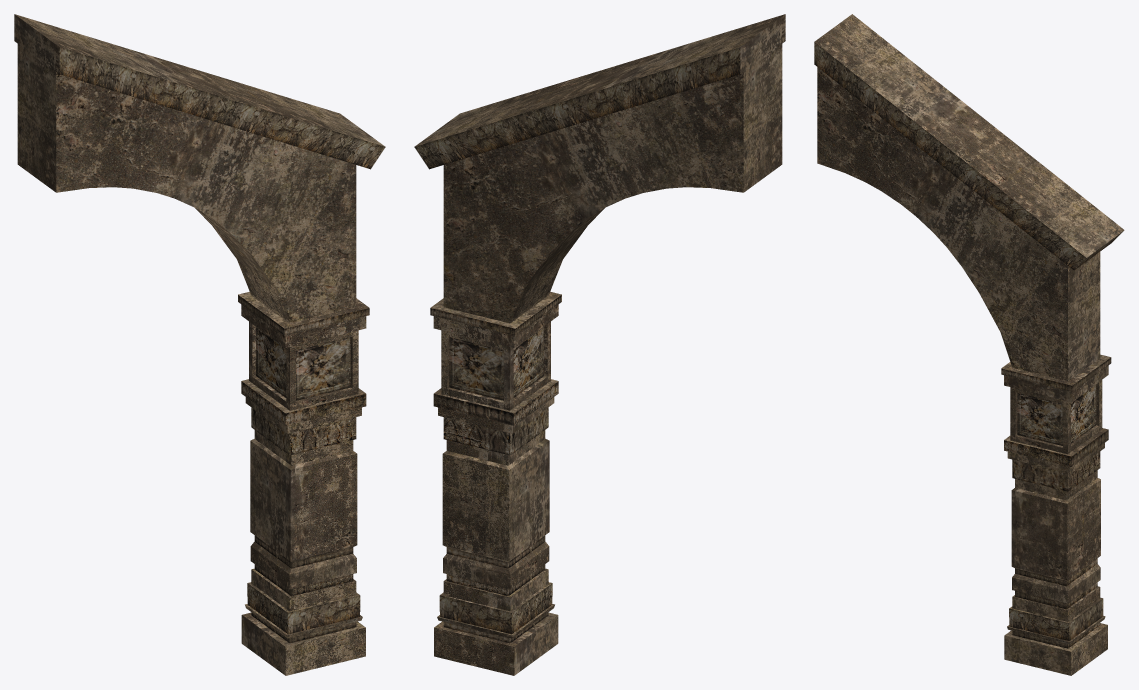
File: materials_5_pillar_long_1.fbx
The picture shows the model from 3 angles, left to right: view 1: azimuth 30°, elevation 25°; view 2: azimuth 150°, elevation 25°; view 3: azimuth 330°, elevation 25°; orthographic projection. The views are drawn at different scales.
Parts seen in each view (by area): view 1: materials_5_pillar_long_1; view 2: materials_5_pillar_long_1; view 3: materials_5_pillar_long_1.
Boxes of the visible parts, x1,y1,x2,y2 form: materials_5_pillar_long_1: (14, 14, 385, 675); materials_5_pillar_long_1: (414, 14, 785, 675); materials_5_pillar_long_1: (814, 14, 1124, 675).
Bounding box in the file's own units: 421 × 844 × 104.
